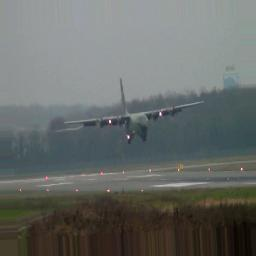Airplane: (64, 78, 205, 146)
